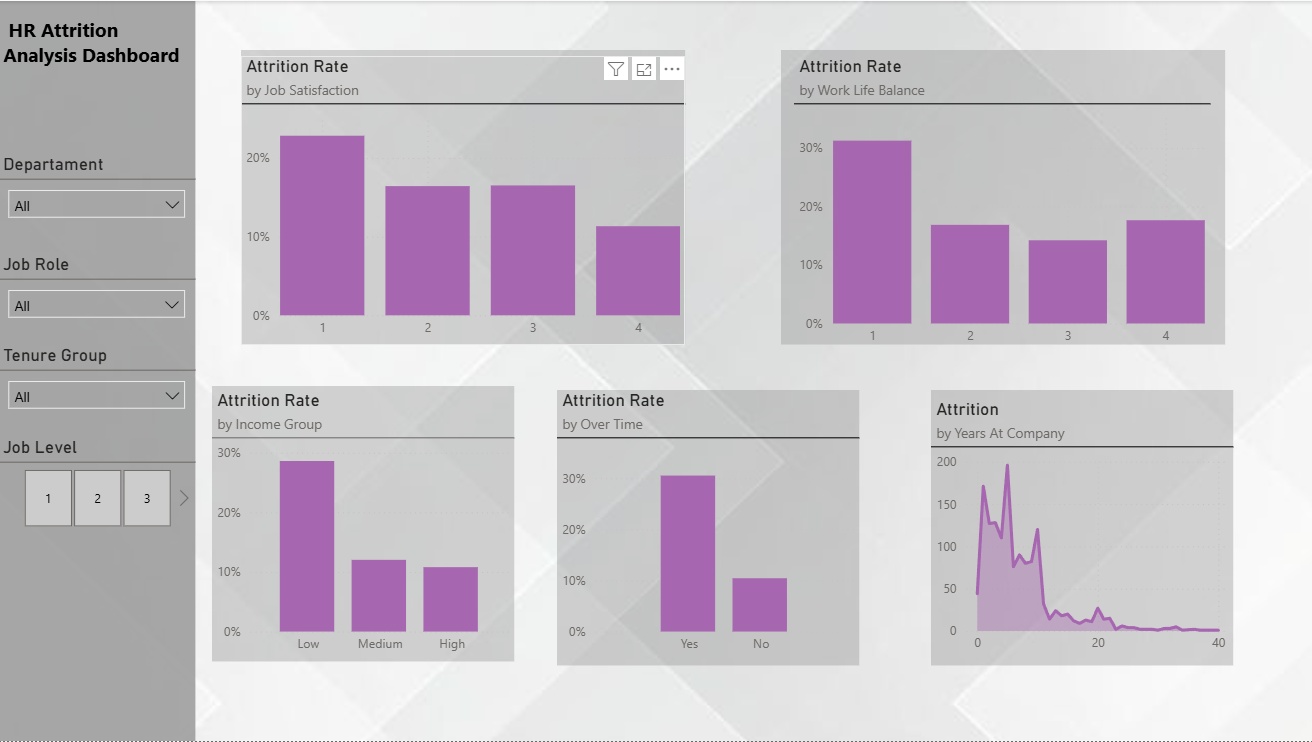

The dashboard page shown, as its layout file describes it:
{"tool":"powerbi","page":{"name":"Attrition Analysis","canvas":[1280,720],"ordinal":1},"visuals":[{"type":"shape","box":[0,0,192.3,720.2],"z":1000},{"type":"slicer","title":"Departament","fields":{"Values":["Employee.Department"]},"box":[0,148.6,192.3,111.4],"z":3000},{"type":"slicer","title":"Job Role","fields":{"Values":["Employee.JobRole"]},"box":[0,245.8,191.9,67.9],"z":4000},{"type":"slicer","title":"Job Level","fields":{"Values":["Employee.JobLevel"]},"box":[0,424.5,192.3,92.8],"z":5000},{"type":"textbox","box":[0,9.3,192.3,87.5],"z":6000},{"type":"slicer","title":"Tenure Group","fields":{"Values":["Employee.Tenure Group"]},"box":[0,334.3,192.3,71.6],"z":7000},{"type":"columnChart","title":"Attrition Rate","fields":{"Category":["Satisfaction.Label"],"Y":["Employee.Attrition Rate"]},"box":[255.8,51.6,431.9,281.1],"z":9000},{"type":"clusteredColumnChart","title":"Attrition Rate","fields":{"Category":["WorkLifeBalance.Label"],"Y":["Employee.Attrition Rate"]},"box":[758.7,51.6,457.1,283],"z":10000},{"type":"clusteredColumnChart","title":"Attrition Rate","fields":{"Category":["Employee.Income Group"],"Y":["Employee.Attrition Rate"]},"box":[255.8,406.6,293.7,254.8],"z":11000},{"type":"clusteredColumnChart","title":"Attrition Rate","fields":{"Category":["Employee.OverTime"],"Y":["Employee.Attrition Rate"]},"box":[588.4,406.6,293.7,254.8],"z":14000},{"type":"lineChart","title":"Attrition Rate","fields":{"Category":["Employee.YearsAtCompany"],"Y":["Employee.Attrition Rate"]},"box":[921.1,406.6,294.7,254.8],"z":15000}]}

Visuals, with their boxes in screenshot pixels (x1, y1, x2, y2), scaled from the page's 1280x720 canvas onto the 1312x742 screenshot:
shape: [x1=0, y1=0, x2=197, y2=741]
"Departament" slicer: [x1=0, y1=153, x2=197, y2=268]
"Job Role" slicer: [x1=0, y1=253, x2=197, y2=323]
"Job Level" slicer: [x1=0, y1=437, x2=197, y2=533]
textbox: [x1=0, y1=10, x2=197, y2=100]
"Tenure Group" slicer: [x1=0, y1=345, x2=197, y2=418]
"Attrition Rate" columnChart: [x1=262, y1=53, x2=705, y2=343]
"Attrition Rate" clusteredColumnChart: [x1=778, y1=53, x2=1246, y2=345]
"Attrition Rate" clusteredColumnChart: [x1=262, y1=419, x2=563, y2=682]
"Attrition Rate" clusteredColumnChart: [x1=603, y1=419, x2=904, y2=682]
"Attrition Rate" lineChart: [x1=944, y1=419, x2=1246, y2=682]
